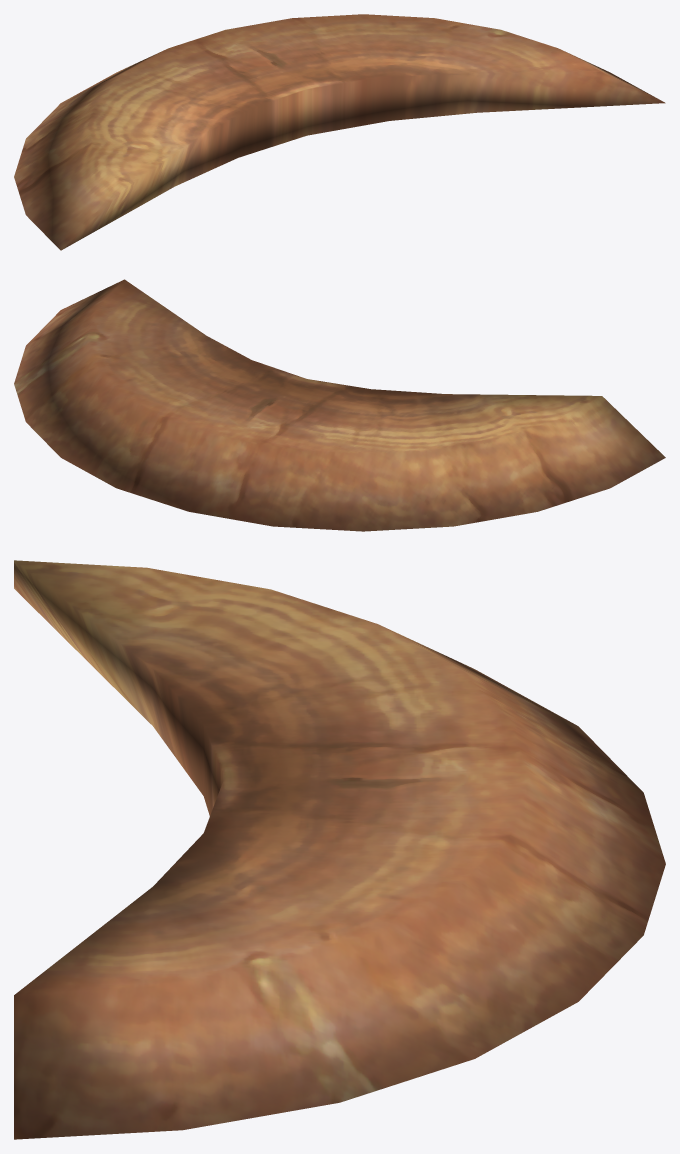
File: mushroom04.fbx
3 views of the same model, one above another, from view 1: azimuth 30°, elevation 25°; view 2: azimuth 150°, elevation 25°; view 3: azimuth 270°, elevation 25° (orthographic). The views are drawn at different scales.
Visible parts, largest first — view 1: mushroom04; view 2: mushroom04; view 3: mushroom04.
Part boxes in pixels (<box>): mushroom04: <box>14,14,665,250</box>; mushroom04: <box>14,279,665,531</box>; mushroom04: <box>14,560,665,1139</box>.
Bounding box in the file's own units: 208 × 15.19 × 104.
